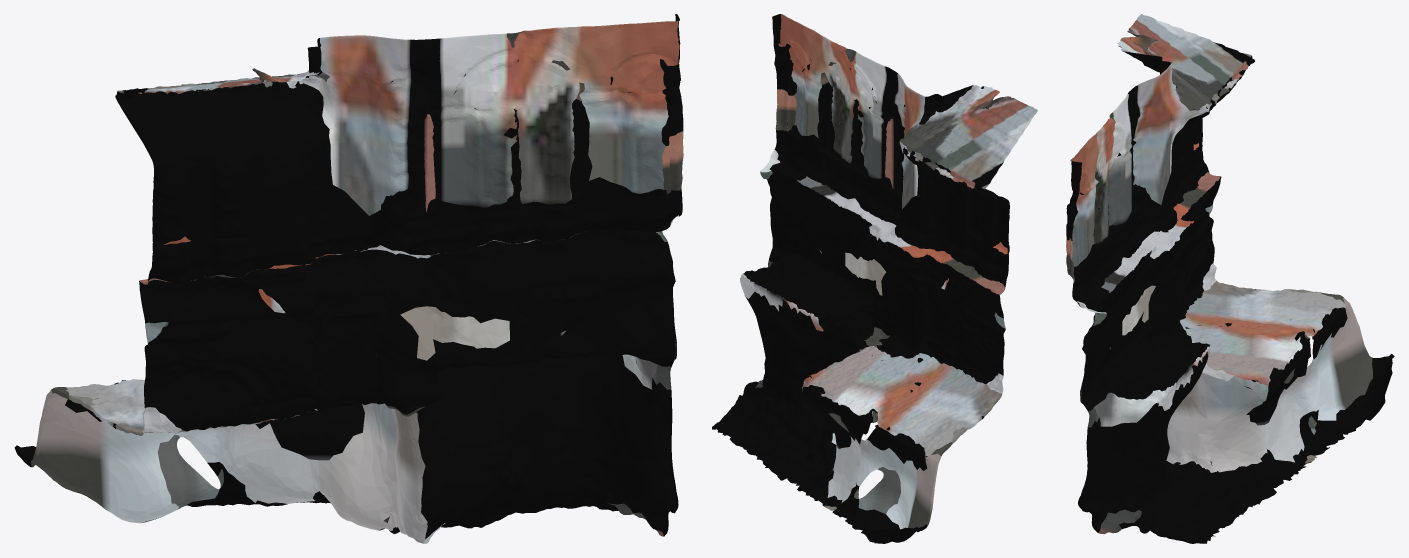
The picture shows the model from 3 angles, left to right: view 1: azimuth 30°, elevation 25°; view 2: azimuth 150°, elevation 25°; view 3: azimuth 270°, elevation 25°; orthographic projection. The views are drawn at different scales.
Parts seen in each view (by area): view 1: node_72; view 2: node_72; view 3: node_72.
Part boxes in pixels (left/top/right/bottom): node_72: left=14, top=14, right=683, bottom=543; node_72: left=712, top=14, right=1037, bottom=543; node_72: left=1066, top=14, right=1394, bottom=543.
Size of the model in its own units: 8.23 by 9.93 by 7.66.
1 material, 1 textured.
